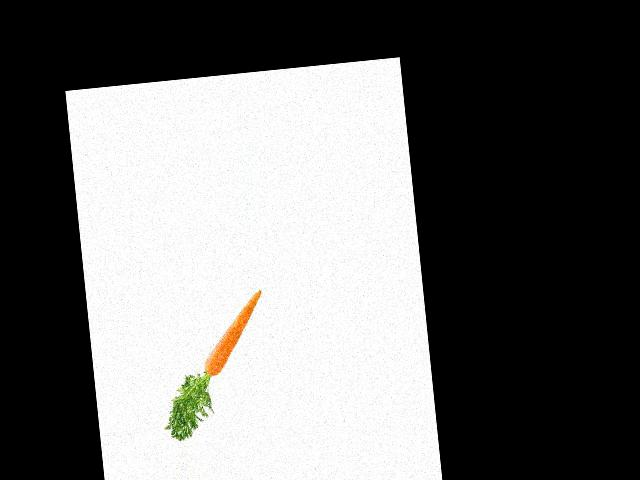carrot: (196, 288, 272, 379)
